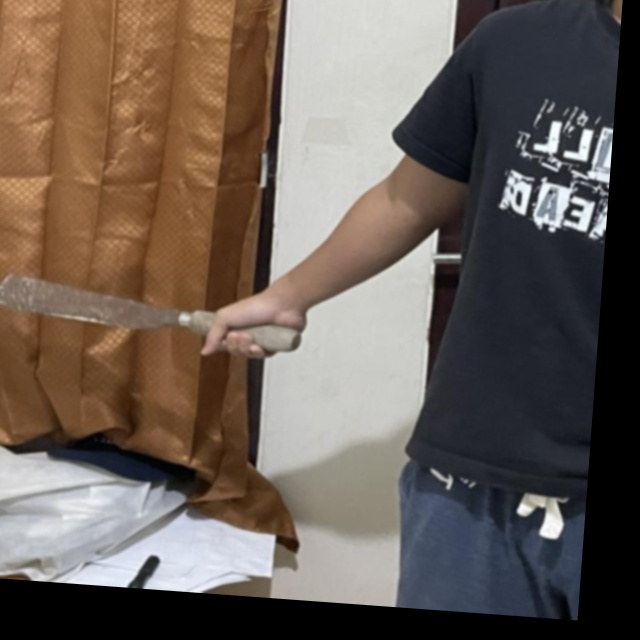Sharp-Object: (0, 266, 309, 355)
